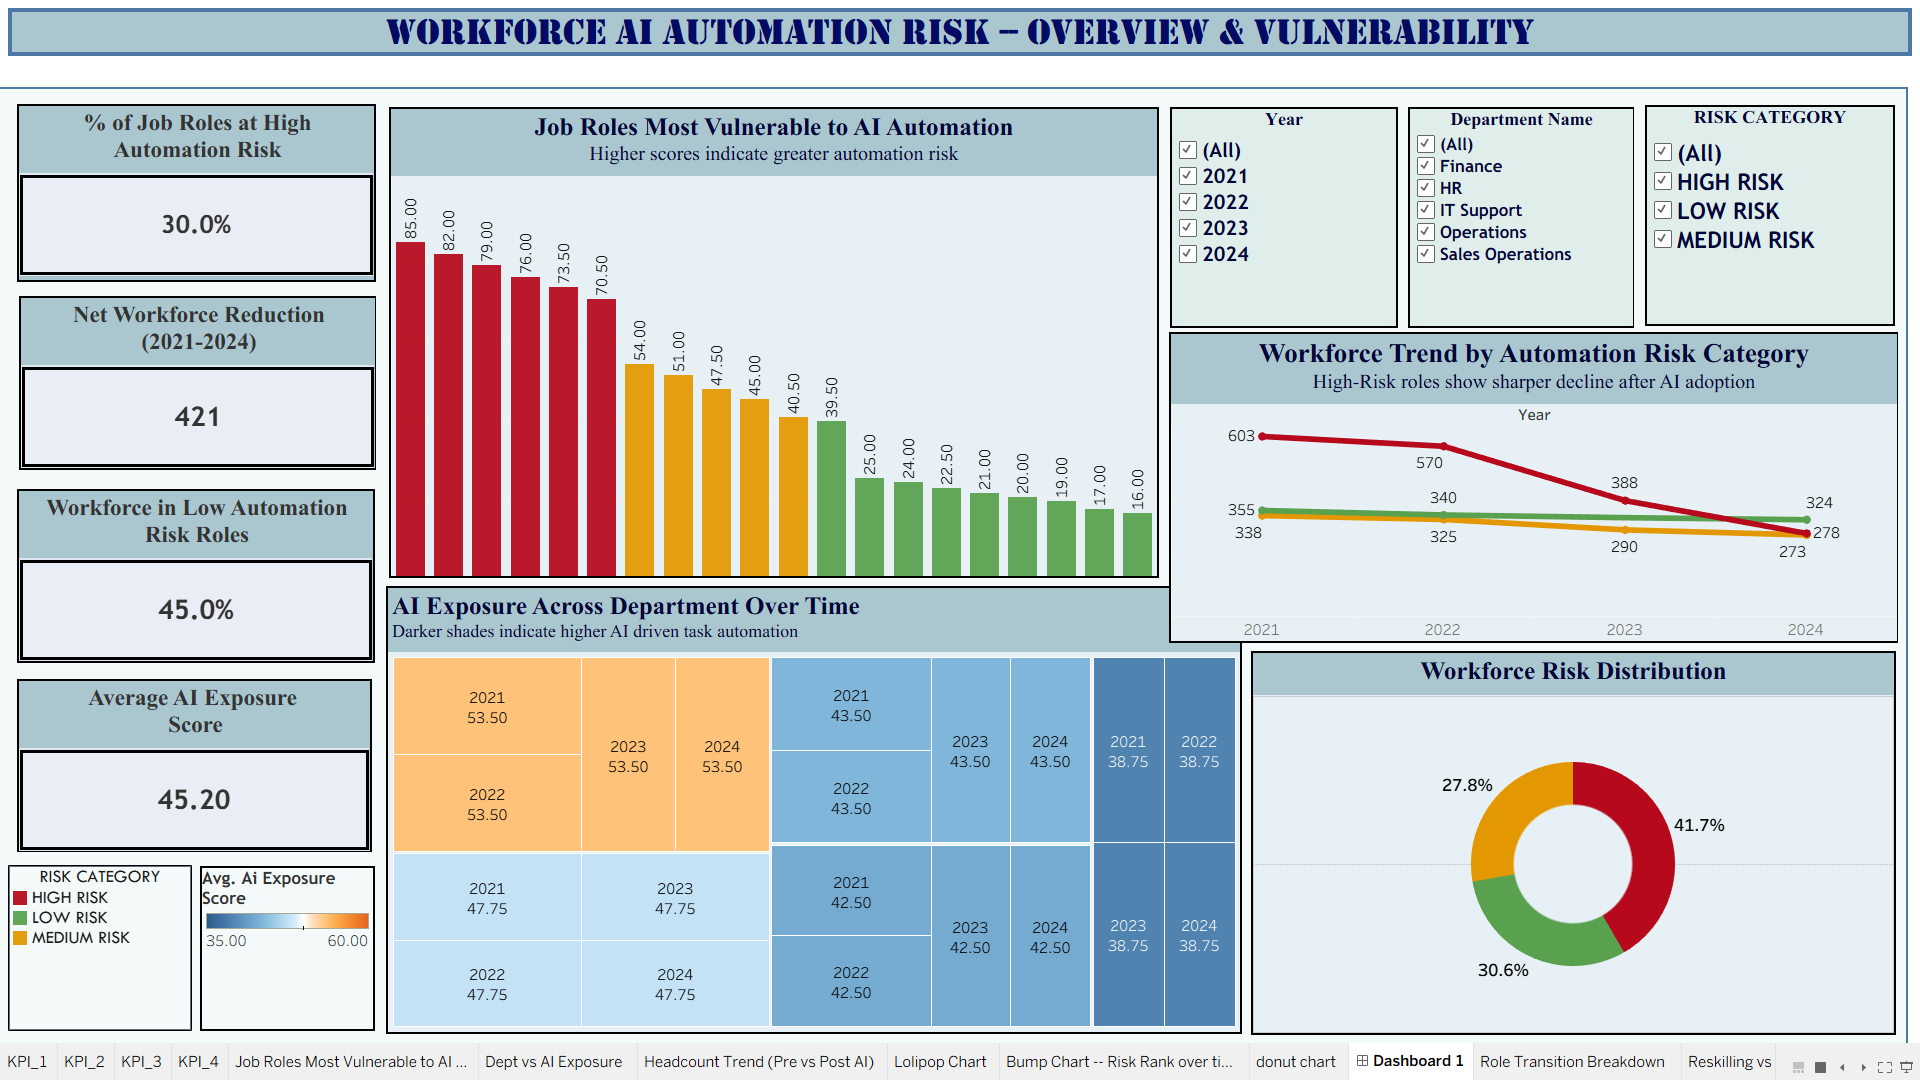

The page's visual inventory and layout, read from the dashboard file:
{"tool":"tableau","page":{"name":"Dashboard 1","canvas":[1000,1000],"units":"permille","ordinal":0},"visuals":[{"type":"title","box":[5,10.6,990,63.3]},{"type":"worksheet","title":"KPI_1","mark":"Text","box":[9,99.4,187.1,171.1]},{"type":"filter","title":"Job Roles Most Vulnerable to AI Automation","param":"[federated.008tdhd1utcax01f9s03s1taswns].[none:Calculation_89509084850544641:nk]","box":[856.8,100.9,130.2,212]},{"type":"filter","title":"Headcount Trend (Pre vs Post AI)","param":"[federated.008tdhd1utcax01f9s03s1taswns].[none:year:ok]","box":[609.4,102.3,118.8,212]},{"type":"filter","title":"Dept vs AI Exposure","param":"[federated.008tdhd1utcax01f9s03s1taswns].[none:DEPARTMENT_NAME:nk]","box":[733.1,102.3,118,212]},{"type":"worksheet","title":"Job Roles Most Vulnerable to AI Automation","mark":"Automatic","rows":["Calculation_89509084847902720"],"cols":["job_role_name"],"box":[202.6,102.9,400.9,427.4]},{"type":"worksheet","title":"KPI_2","mark":"Automatic","box":[9.8,283.6,186.3,166.7]},{"type":"worksheet","title":"Headcount Trend (Pre vs Post AI)","mark":"Line","rows":["headcount"],"cols":["year"],"box":[608.6,318.7,380,298.2]},{"type":"worksheet","title":"KPI_4","mark":"Automatic","box":[9,469.3,186.3,166.7]},{"type":"worksheet","title":"Dept vs AI Exposure","mark":"Automatic","box":[200.8,544.9,436.4,445.9]},{"type":"worksheet","title":"donut chart","mark":"Pie","rows":["Calculation_502432876477431809","Calculation_502432876477485059"],"box":[642.1,624,345.4,368.1]},{"type":"worksheet","title":"KPI_3","mark":"Automatic","box":[8.7,650.4,185.2,162.3]},{"type":"legend","title":"Job Roles Most Vulnerable to AI Automation","param":"[federated.008tdhd1utcax01f9s03s1taswns].[none:Calculation_89509084850544641:nk]","box":[4.1,829,96,159.4]},{"type":"legend","title":"Dept vs AI Exposure","param":"[federated.008tdhd1utcax01f9s03s1taswns].[avg:ai_exposure_score:qk]","box":[104.2,830.4,91.1,157.9]}]}

Visuals, with their boxes on the dashboard's canvas, which has no fixed pixel size, in thousandths of its width and height (x1, y1, x2, y2). These are canvas units, not pixel positions in the 1920x1080 screenshot, which may show the page scaled, cropped or inside an application window:
title: box=[5, 11, 995, 74]
"KPI_1" worksheet (Text marks): box=[9, 99, 196, 270]
"Job Roles Most Vulnerable to AI Automation" filter: box=[857, 101, 987, 313]
"Headcount Trend (Pre vs Post AI)" filter: box=[609, 102, 728, 314]
"Dept vs AI Exposure" filter: box=[733, 102, 851, 314]
"Job Roles Most Vulnerable to AI Automation" worksheet: box=[203, 103, 604, 530]
"KPI_2" worksheet: box=[10, 284, 196, 450]
"Headcount Trend (Pre vs Post AI)" worksheet (Line marks): box=[609, 319, 989, 617]
"KPI_4" worksheet: box=[9, 469, 195, 636]
"Dept vs AI Exposure" worksheet: box=[201, 545, 637, 991]
"donut chart" worksheet (Pie marks): box=[642, 624, 988, 992]
"KPI_3" worksheet: box=[9, 650, 194, 813]
"Job Roles Most Vulnerable to AI Automation" legend: box=[4, 829, 100, 988]
"Dept vs AI Exposure" legend: box=[104, 830, 195, 988]
